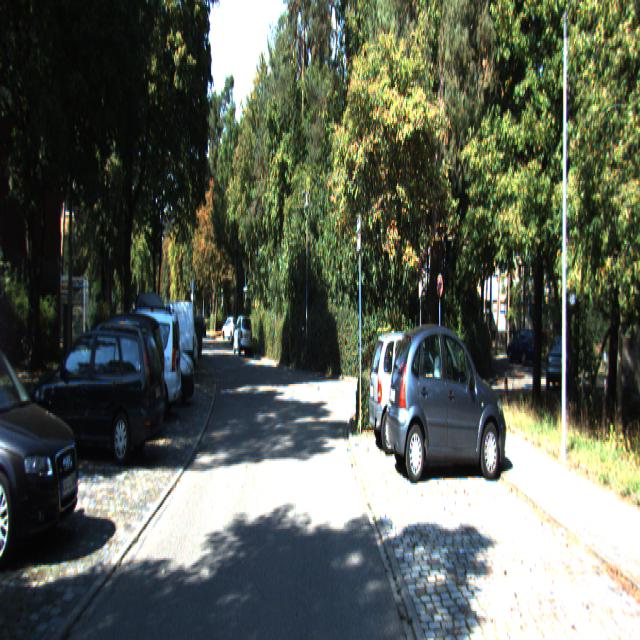Car: (0, 315, 90, 567), (386, 318, 508, 489), (29, 312, 165, 465), (367, 324, 465, 459), (86, 301, 182, 426), (125, 295, 197, 415), (137, 300, 194, 388), (233, 316, 253, 358)
